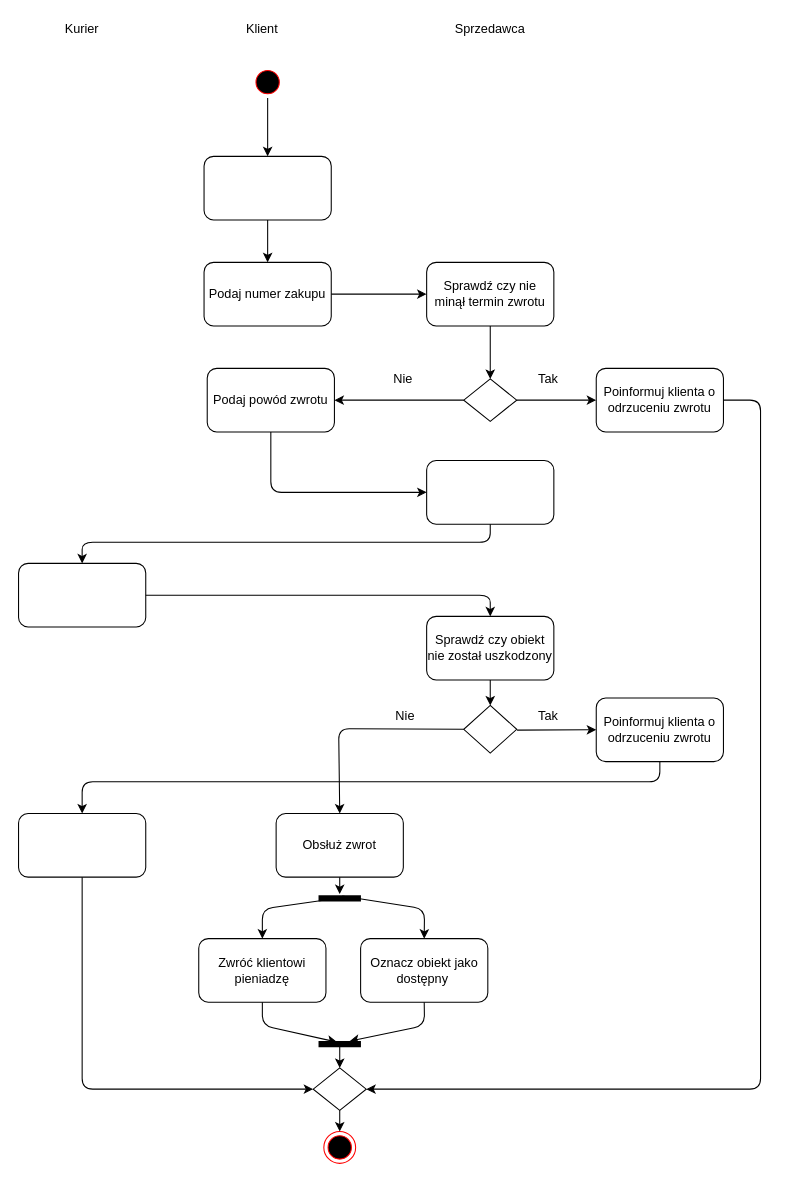
Some shapes in this 788 by 1182 pixel diagram are drawn without their labels. The shapes that lost their labels are listed below. From the top down, each one's centre as x and y in pixels, then its label:
point (267, 187): Chcę oddać obiekt
point (490, 492): Wyślij kuriera
point (81, 594): Przywieź towar
point (81, 844): Dostarcz towar z powrotem do klienta
